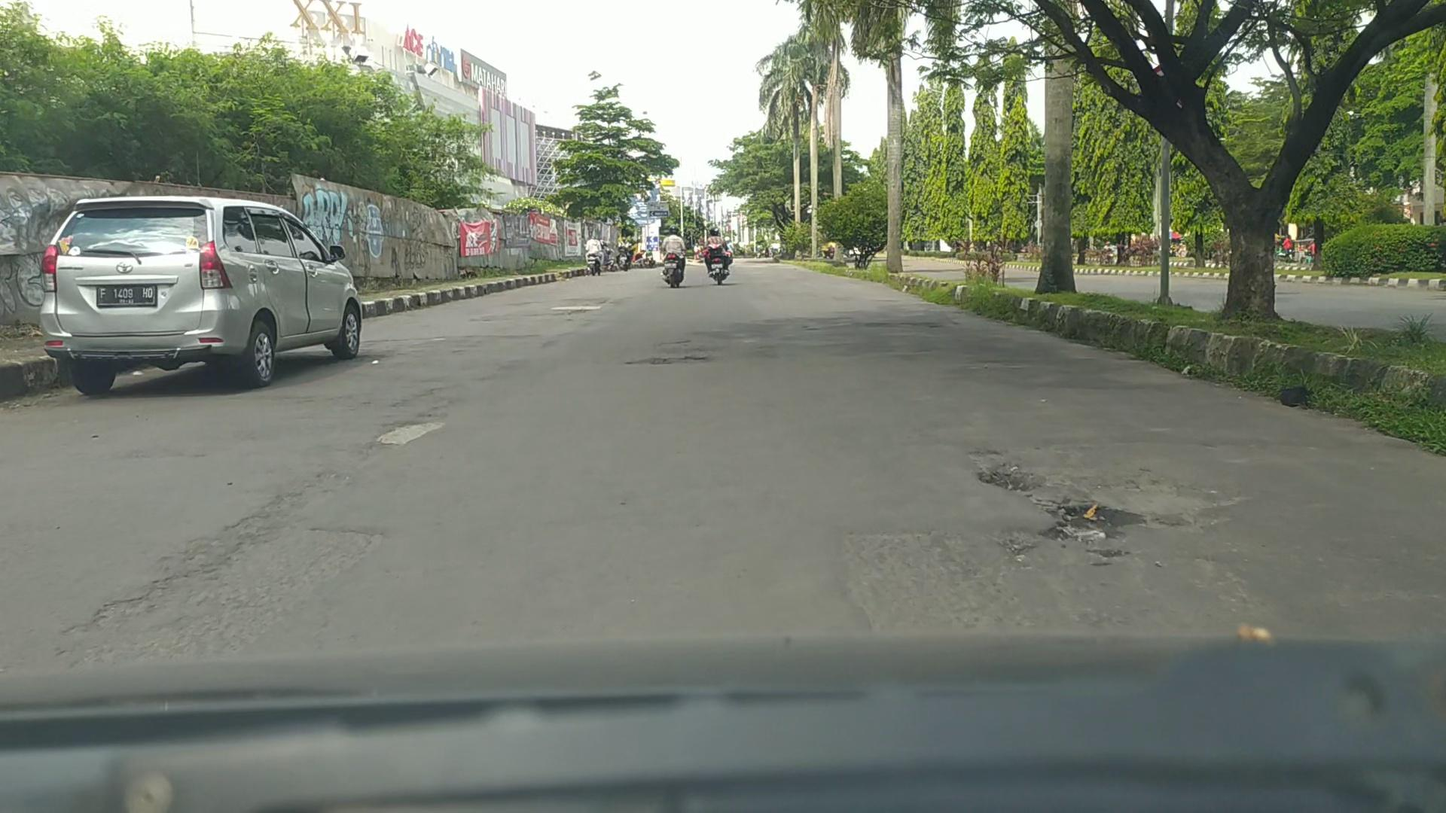pothole: (970, 469, 1140, 558), (624, 354, 708, 367)
